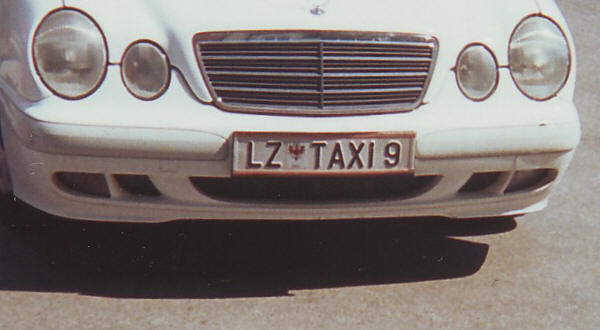license_plate: (231, 131, 415, 176)
